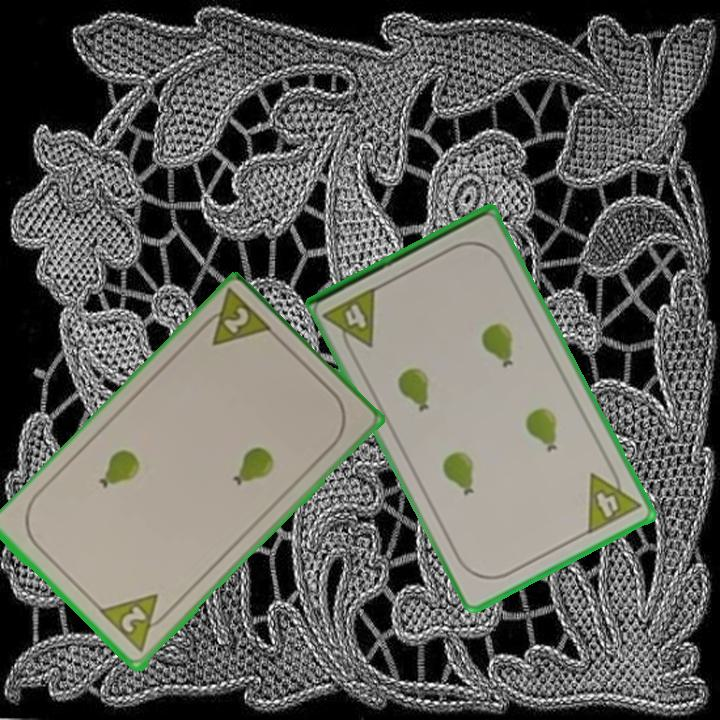2p: (96, 590, 176, 657), (193, 286, 276, 350)
4p: (584, 460, 644, 537), (321, 283, 381, 358)
